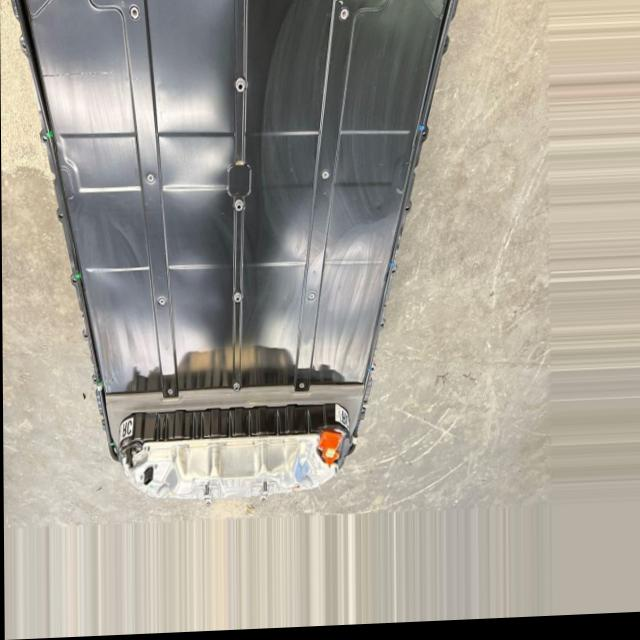Nut: (231, 76, 248, 97), (229, 292, 243, 308), (232, 201, 245, 215), (231, 382, 241, 395)
Screw: (126, 6, 141, 22), (336, 10, 350, 26), (154, 296, 166, 310), (145, 172, 155, 187), (319, 172, 331, 184), (306, 292, 316, 303), (297, 385, 305, 393), (167, 389, 173, 399)
